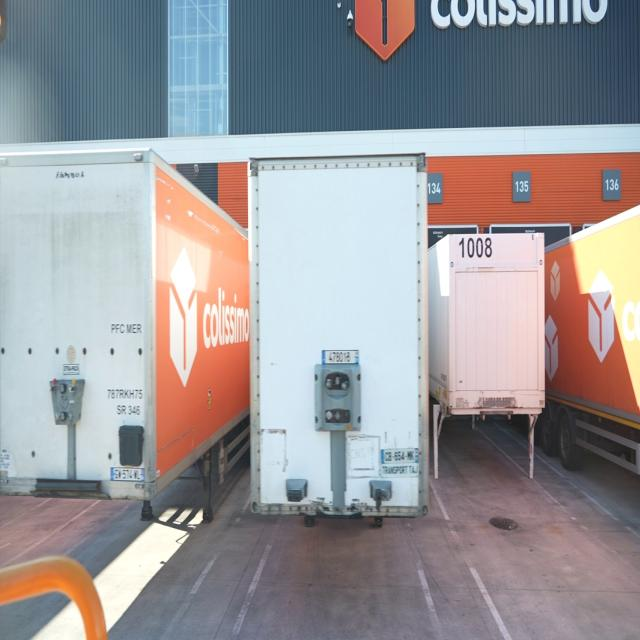Code: (453, 232, 498, 264)
